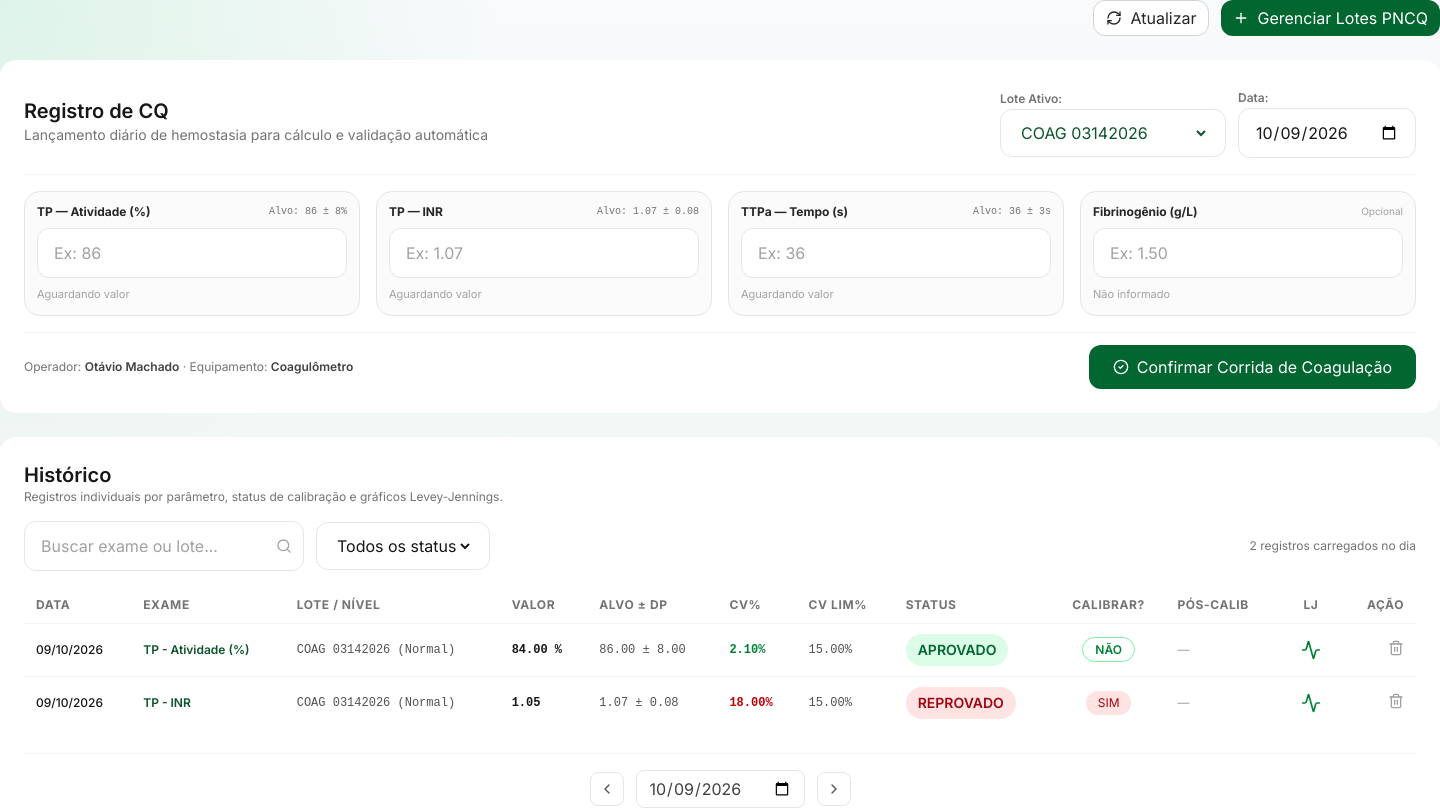
Test: CoagulacaoArea › permite abrir o modal de pós-calibração ao clicar em SIM
Click the button "SIM".
click(1109, 702)  # box [1086,690,1132,714]
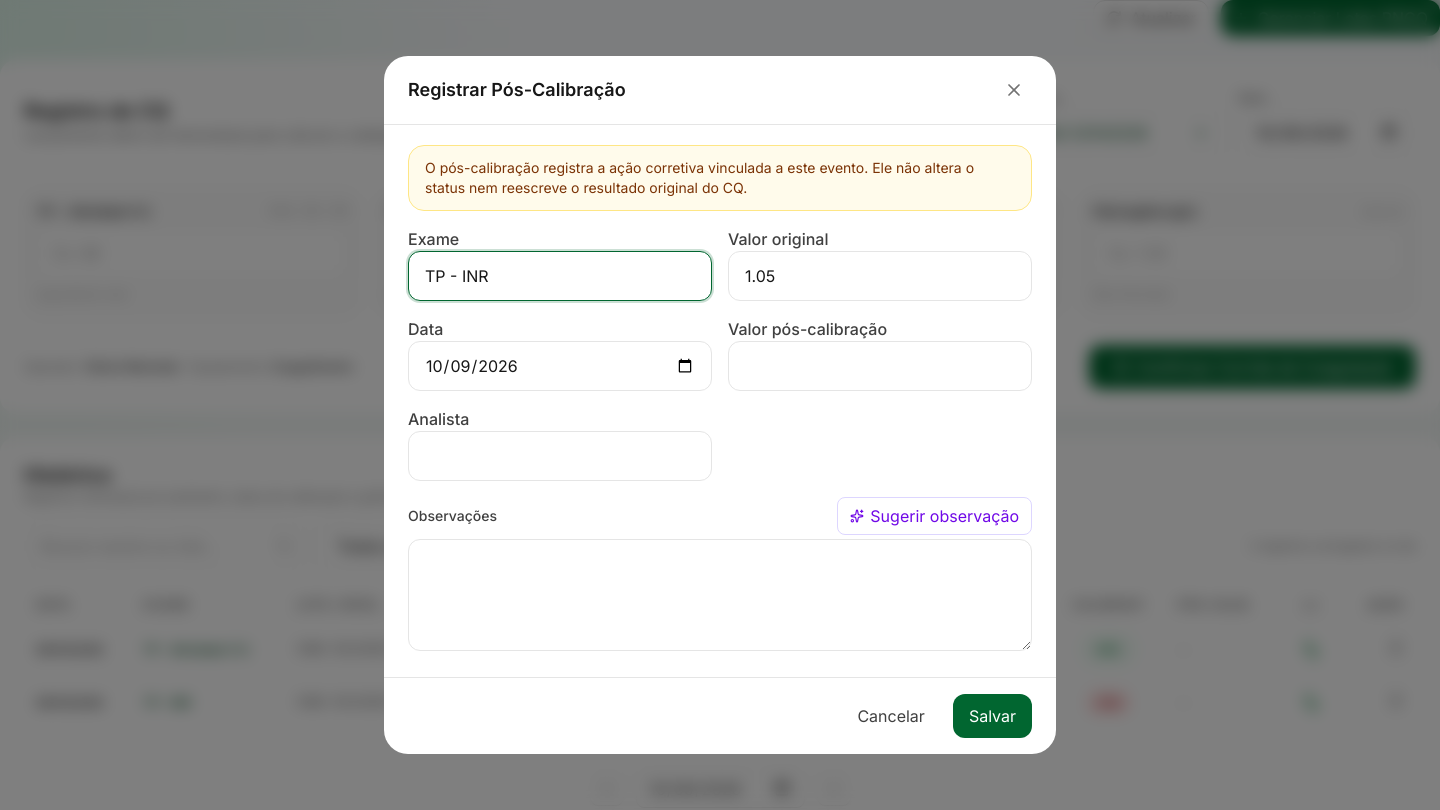
Check: the heading "Registrar Pós-Calibração" is shown, box [408,76,626,104]
